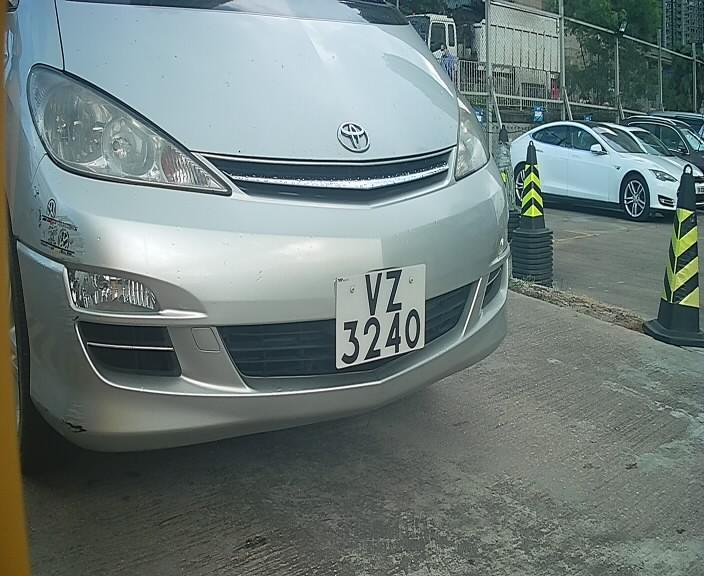License Plate: (321, 250, 434, 376)
